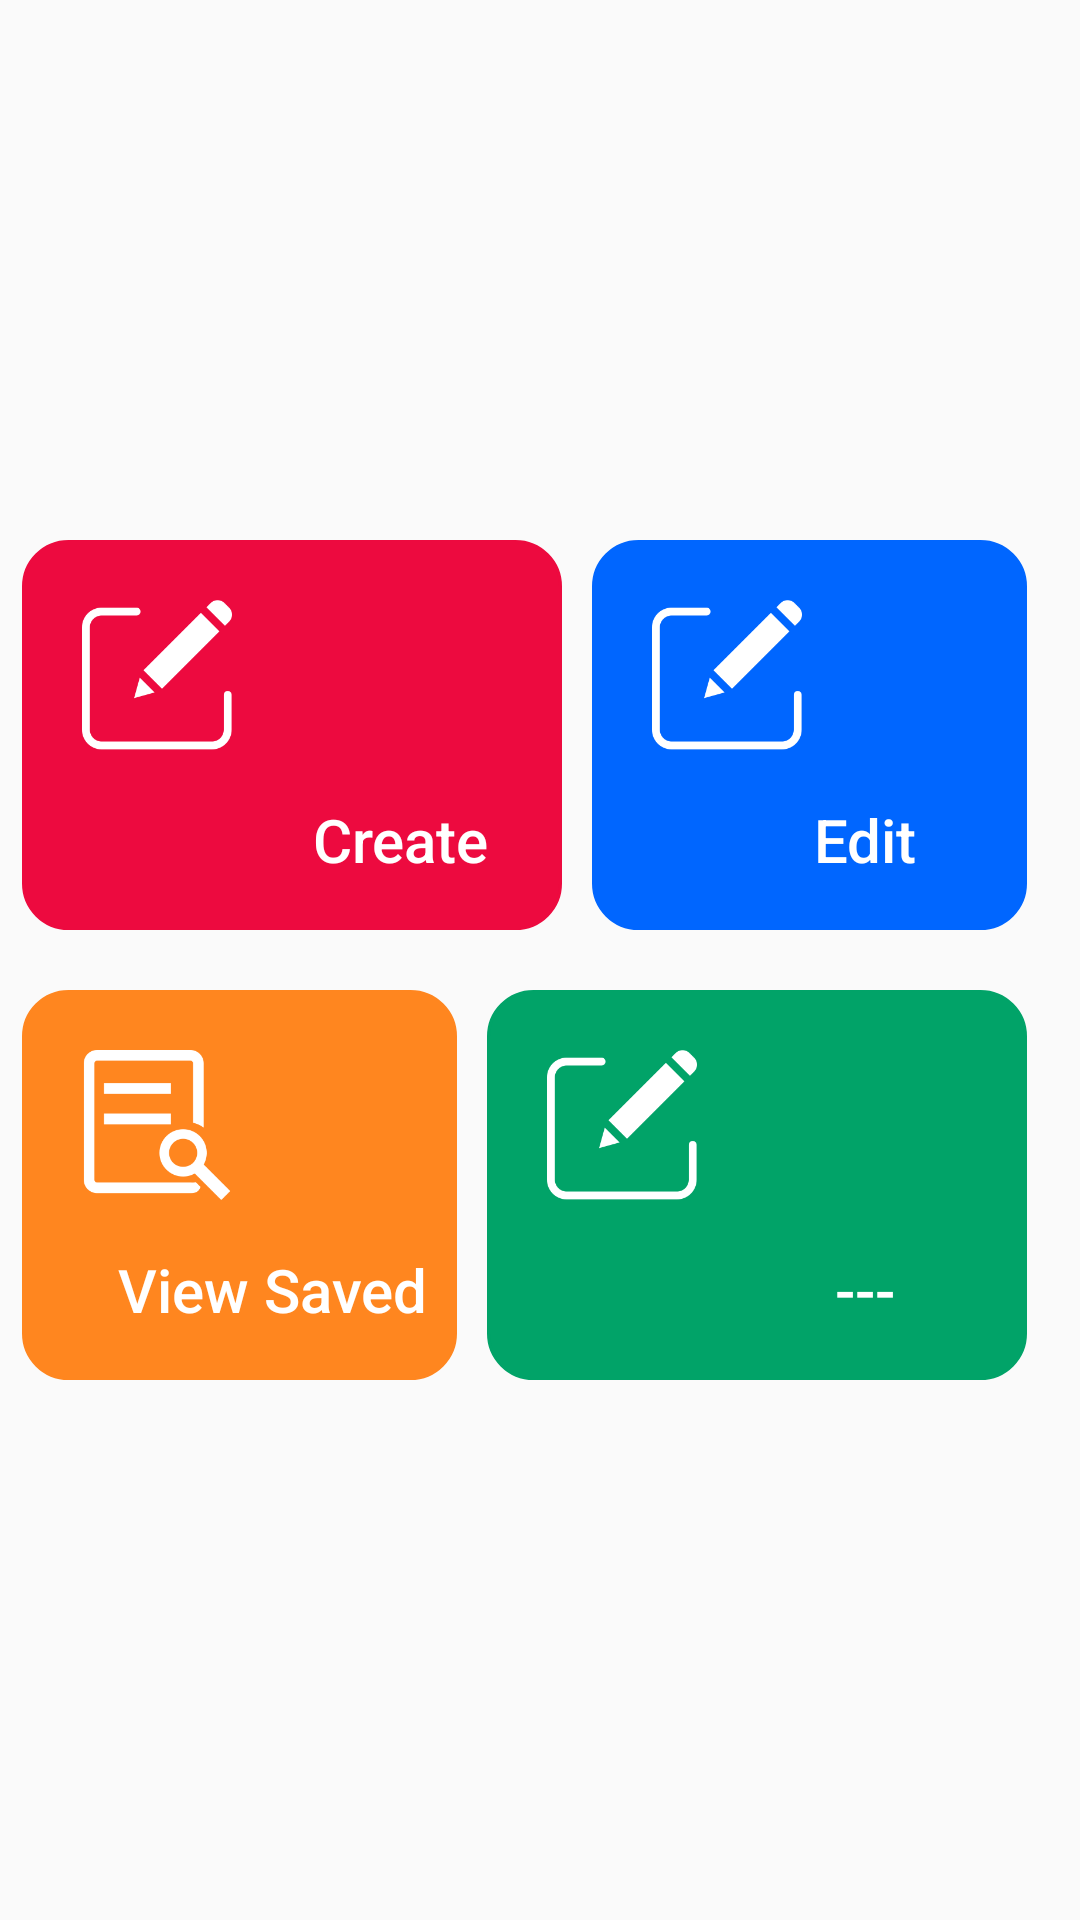

Named icons in this screenshot (1080px×1920px) and their centers, (x,y):
imgview: (157,1125)
